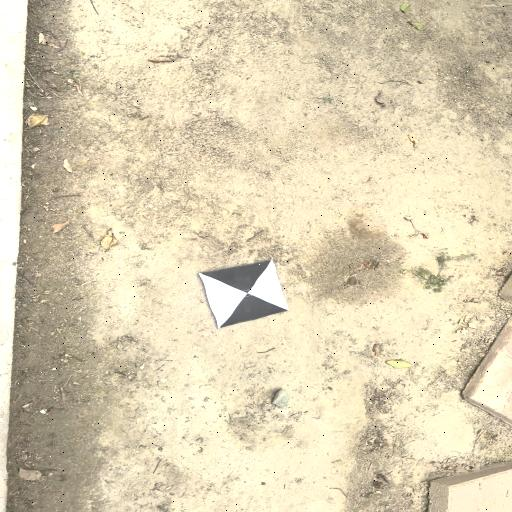target: (200, 259, 289, 328)
